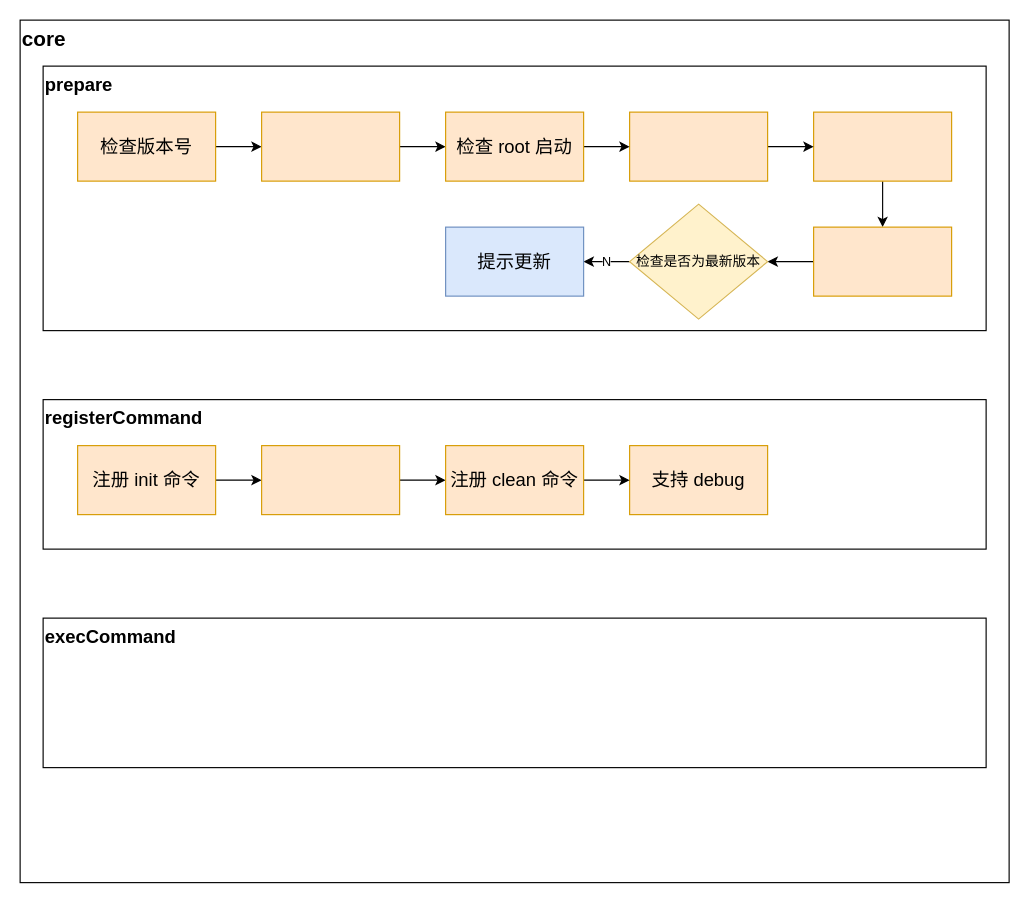
The diagram is 1029 pixels wide and 903 high, and some of its shapes have lost their labels. The shapes that lost their labels are listed below. From the top down, each one's box as (x1, y1, x2, y2) in pixels, then its label:
(260, 111, 400, 181): 检查 node 版本
(628, 111, 768, 181): 检查用户主目录
(812, 111, 952, 181): 检查入参
(812, 226, 952, 296): 检查环境变量
(260, 444, 400, 515): 注册 publish 命令
